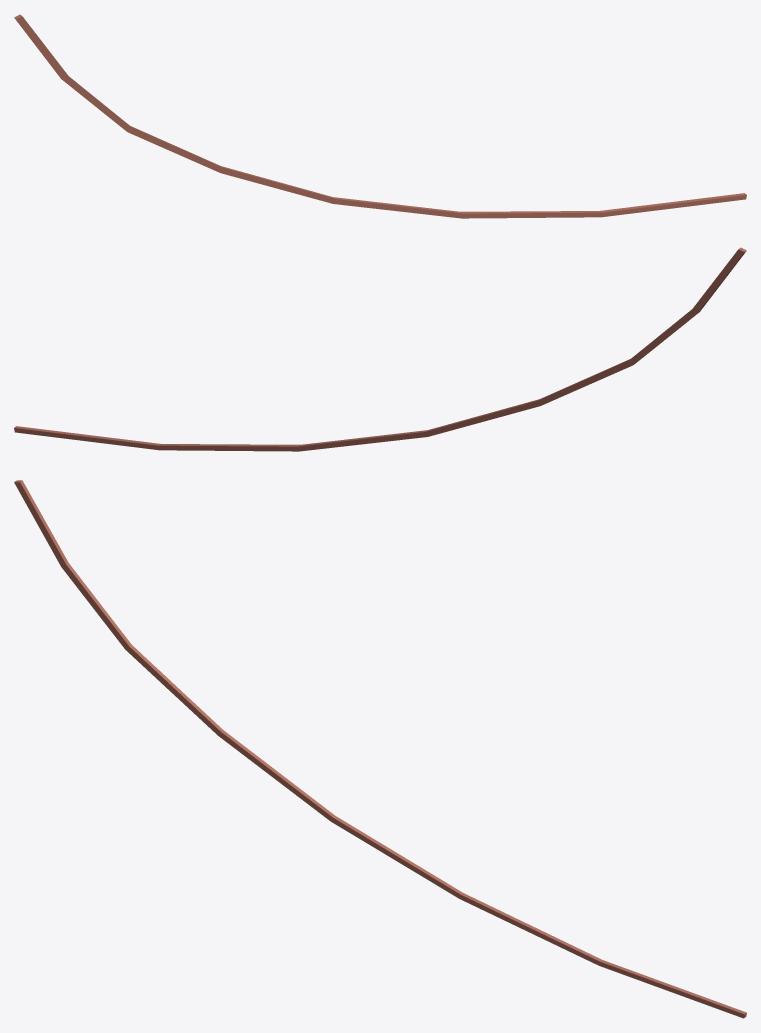
Rendered from bridge_shroud_002.fbx.
The picture shows the model from 3 angles, top to bottom: view 1: azimuth 30°, elevation 25°; view 2: azimuth 150°, elevation 25°; view 3: azimuth 330°, elevation 25°; orthographic projection.
Visible parts, largest first — view 1: bridge_shroud_002; view 2: bridge_shroud_002; view 3: bridge_shroud_002.
Part boxes in pixels (box(x1,y1,x2,y2)): bridge_shroud_002: box(14, 14, 746, 218); bridge_shroud_002: box(14, 247, 746, 451); bridge_shroud_002: box(14, 480, 746, 1018).
Bounding box in the file's own units: 5117 × 2408 × 29.71.
